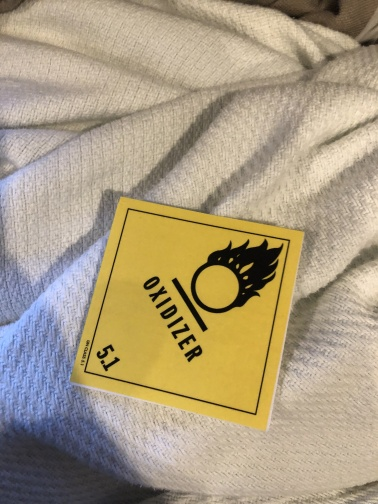Oxidizer: (68, 197, 305, 430)
